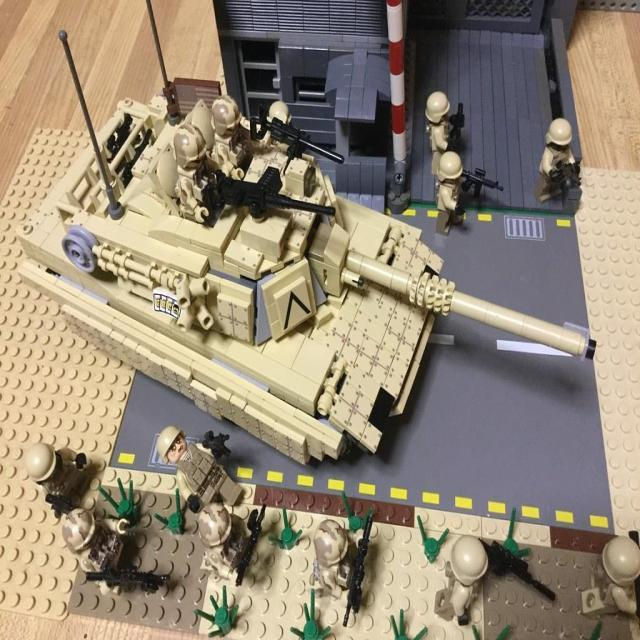Tanks: (22, 105, 580, 459)
